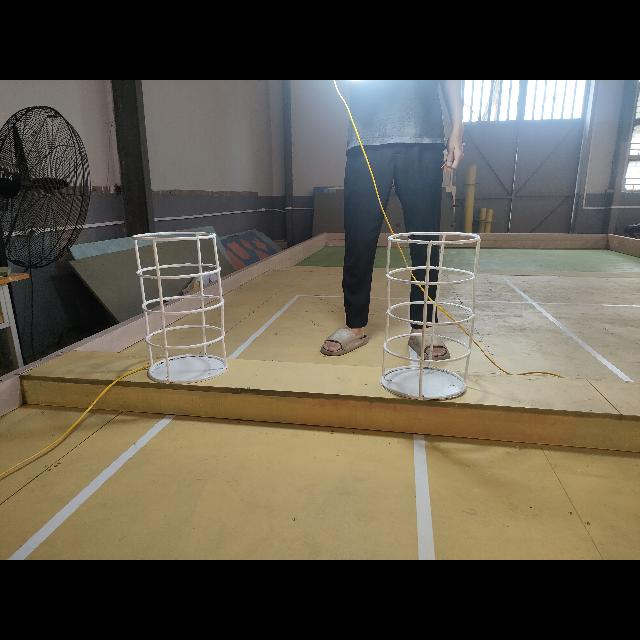S: (382, 226, 476, 404), (131, 228, 231, 386)
